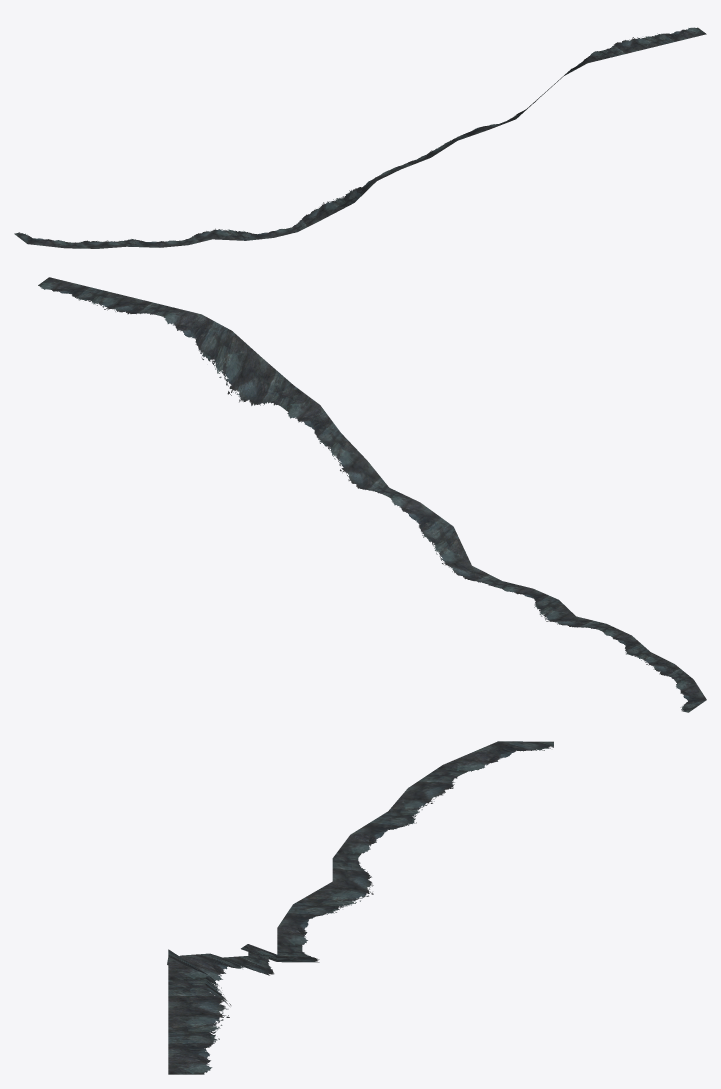
Rendered from blend_weeds07.fbx.
3 views of the same model, one above another, from view 1: azimuth 30°, elevation 25°; view 2: azimuth 150°, elevation 25°; view 3: azimuth 270°, elevation 25° (orthographic). The views are drawn at different scales.
Visible parts, largest first — view 1: New_terrain/Material_#238682132; view 2: New_terrain/Material_#238682132; view 3: New_terrain/Material_#238682132.
Part boxes in pixels (<box>): New_terrain/Material_#238682132: <box>14,27,706,248</box>; New_terrain/Material_#238682132: <box>38,277,706,712</box>; New_terrain/Material_#238682132: <box>167,741,553,1074</box>.
Size of the model in its own units: 62.55 by 12.48 by 17.56.
